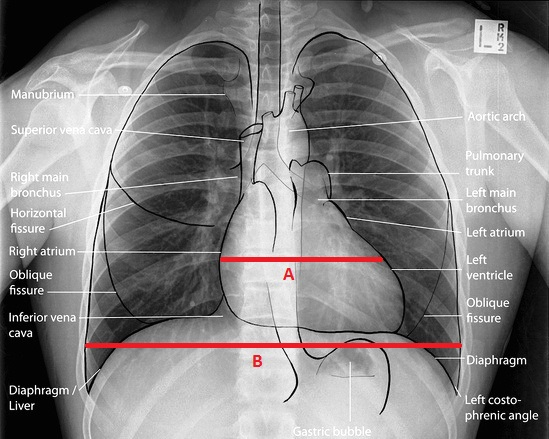telestration: (286, 112, 464, 137), (60, 175, 237, 196), (344, 213, 464, 236), (50, 201, 134, 230), (6, 309, 77, 339), (111, 127, 243, 143), (464, 393, 539, 421), (8, 382, 69, 413), (463, 148, 526, 176), (327, 167, 461, 180), (463, 252, 515, 285), (9, 170, 70, 198), (10, 122, 113, 138), (77, 311, 226, 322), (9, 205, 67, 233), (465, 185, 518, 214), (5, 267, 55, 295), (464, 296, 512, 325), (7, 243, 80, 258), (9, 86, 77, 102), (313, 195, 463, 202), (76, 91, 224, 98), (76, 248, 219, 255), (466, 351, 528, 367), (467, 108, 525, 124), (466, 224, 525, 238), (46, 287, 117, 297), (389, 265, 460, 273), (345, 359, 353, 421), (424, 311, 462, 321), (452, 383, 465, 400), (431, 355, 463, 361)
